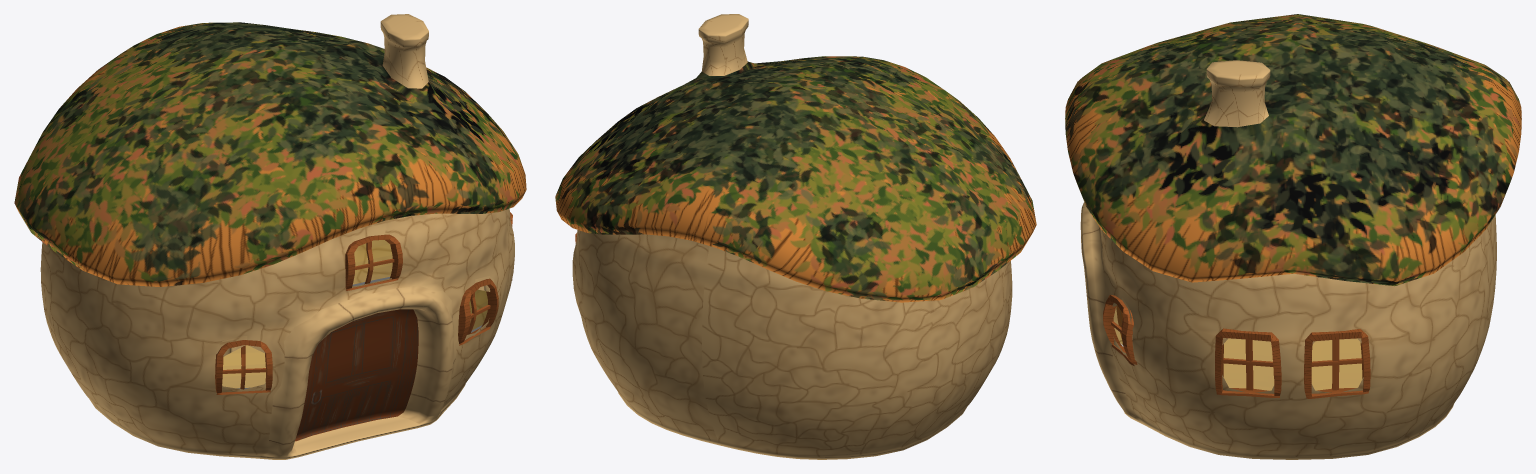
Rendered from grandma home.fbx.
The picture shows the model from 3 angles, left to right: view 1: azimuth 30°, elevation 25°; view 2: azimuth 150°, elevation 25°; view 3: azimuth 270°, elevation 25°; orthographic projection. The views are drawn at different scales.
Visible parts, largest first — view 1: grandma_home, win_4, win_1, win_3; view 2: grandma_home; view 3: grandma_home, win_2, win_5, win_3.
Part boxes in pixels (<box>): grandma_home: <box>14,14,526,459</box>; win_4: <box>345,234,402,290</box>; win_1: <box>215,340,272,394</box>; win_3: <box>458,278,498,345</box>; grandma_home: <box>555,14,1036,459</box>; grandma_home: <box>1065,14,1521,459</box>; win_2: <box>1304,329,1370,398</box>; win_5: <box>1215,328,1281,397</box>; win_3: <box>1103,294,1137,365</box>.
Size of the model in its own units: 29.05 by 22.57 by 25.68.
Materials: 4 (3 with a texture image).
